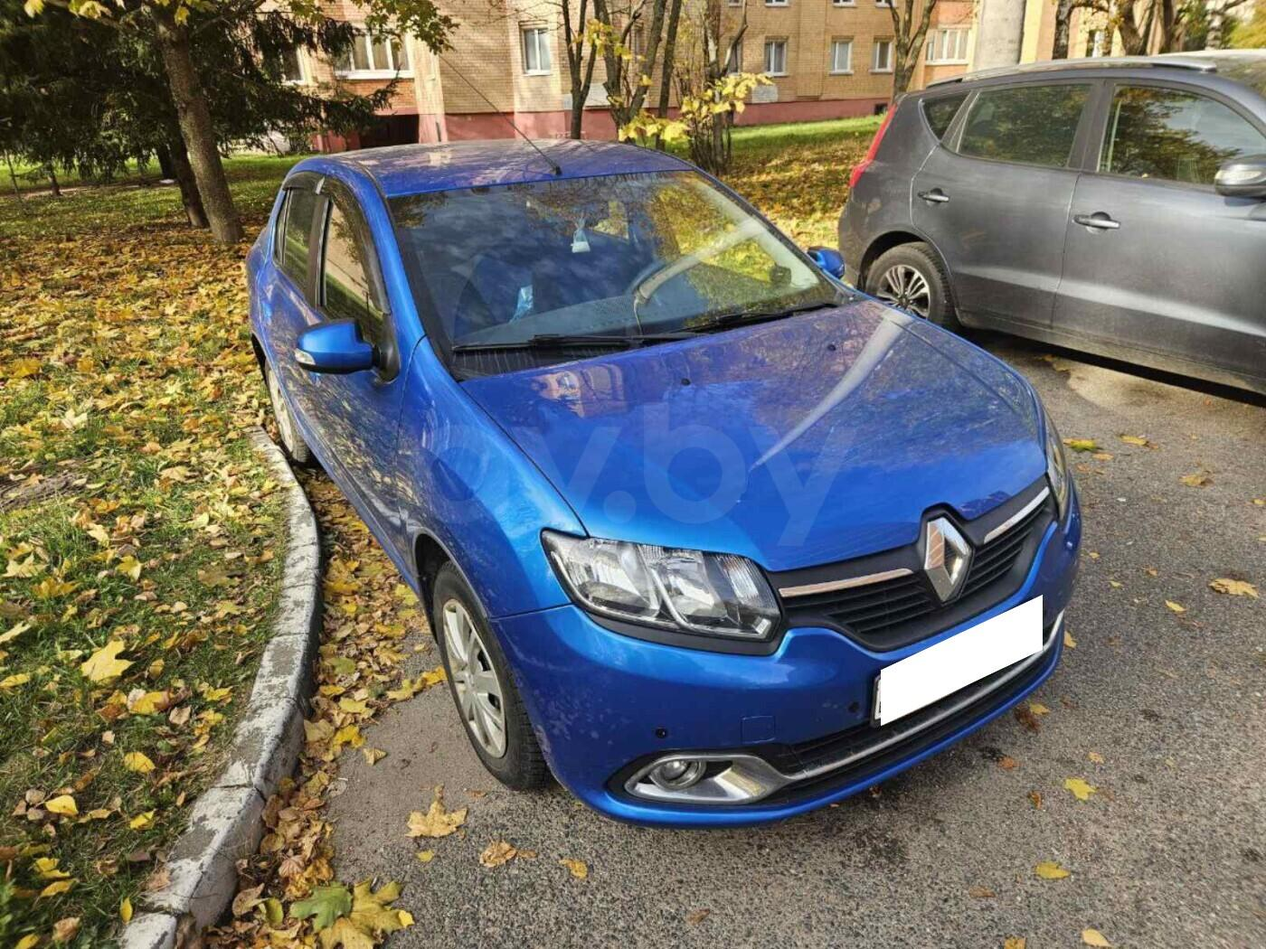Logan_2013-2018: (244, 136, 1085, 835)
